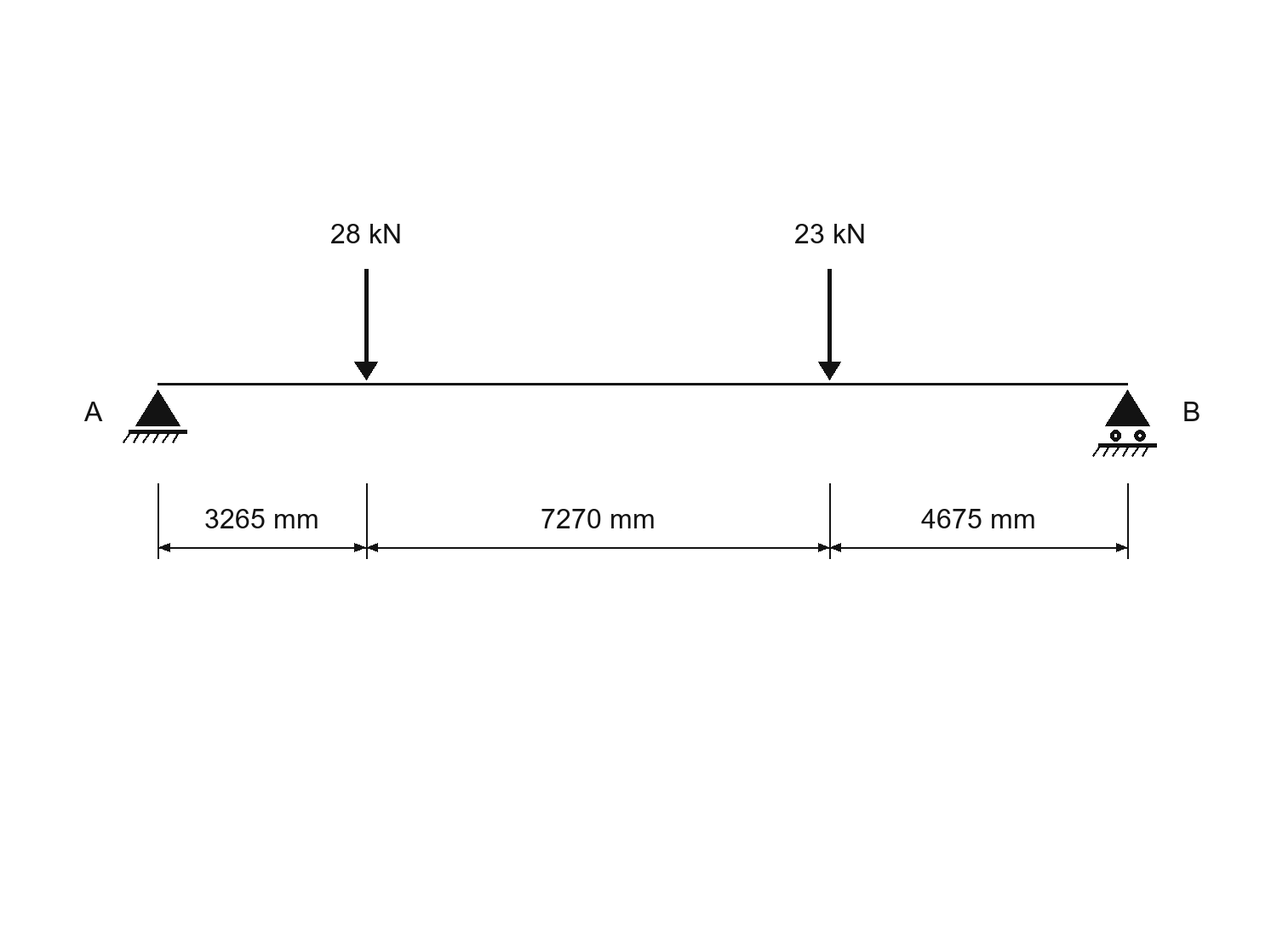pin_support: (123, 390, 187, 443)
point_load: (354, 269, 378, 380), (818, 269, 841, 380)
roller_support: (1092, 390, 1157, 457)
